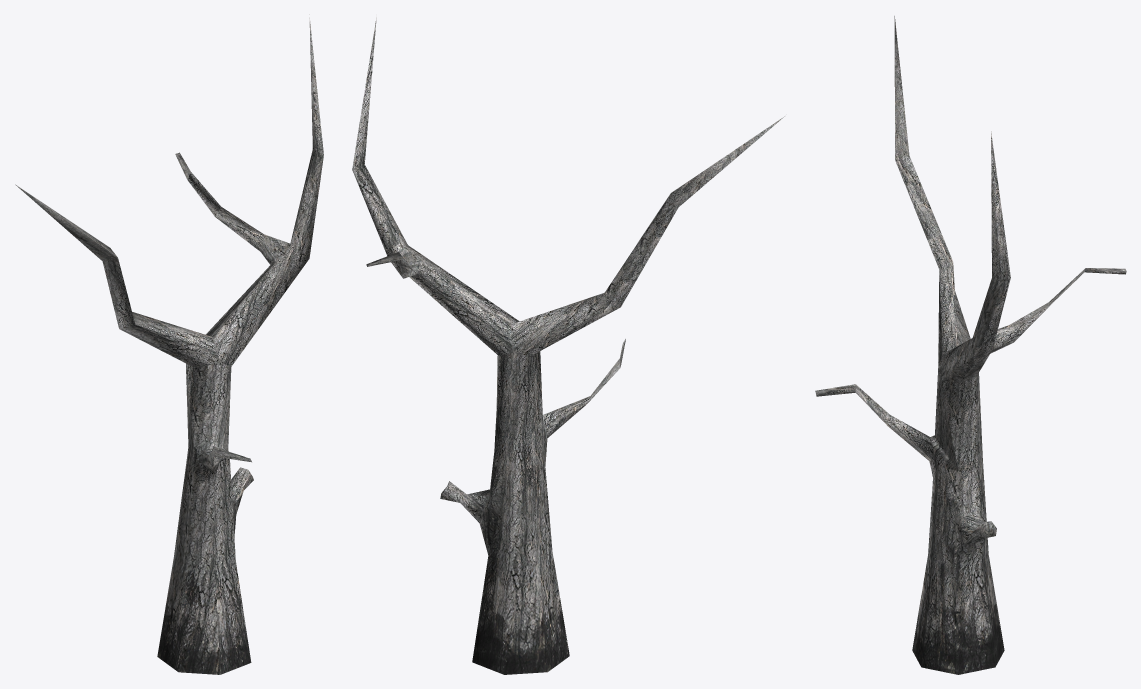
File: TreeBig3_LOD1.FBX
The picture shows the model from 3 angles, left to right: view 1: azimuth 30°, elevation 25°; view 2: azimuth 150°, elevation 25°; view 3: azimuth 270°, elevation 25°; orthographic projection. The views are drawn at different scales.
Visible parts, largest first — view 1: objdefault; view 2: objdefault; view 3: objdefault.
Boxes of the visible parts, x1,y1,x2,y2 form: objdefault: (15, 14, 323, 674); objdefault: (352, 17, 784, 674); objdefault: (815, 16, 1126, 674).
Bounding box in the file's own units: 441 × 702 × 341.
Materials: 1 (1 with a texture image).
